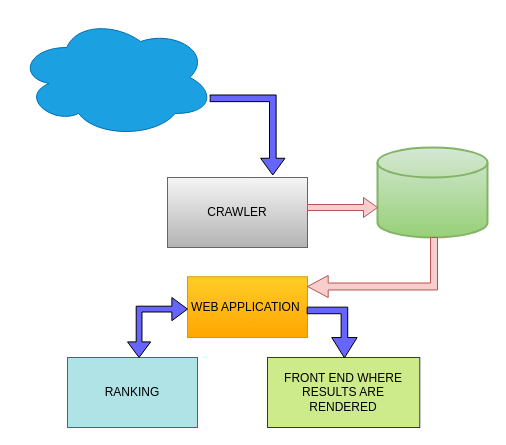
This 506x445 diagram has some shape labels left out. Each missing label, with the centre of its shape:
DATABASE: the point at 432,192
THE INTERNET: the point at 115,77
